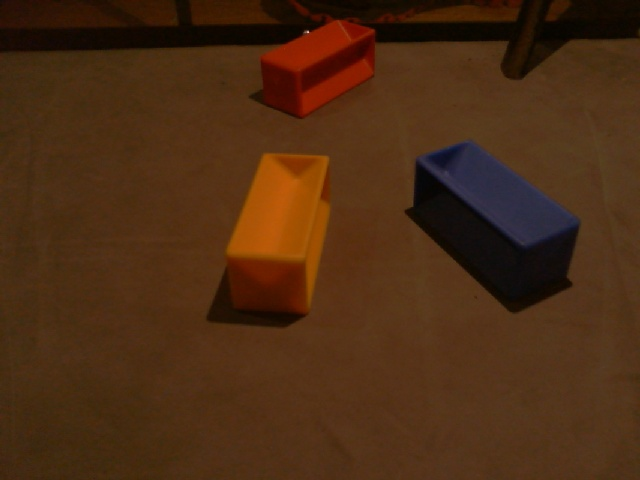BlueSample: (411, 138, 585, 308)
RedSample: (257, 18, 377, 121)
YellowSample: (221, 148, 335, 319)
